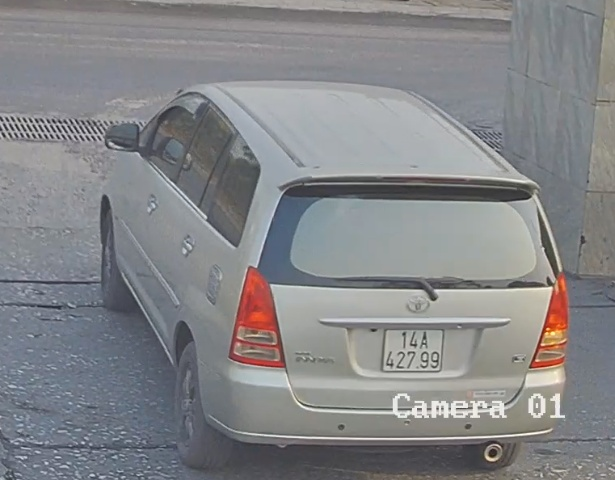vehicle plate: (381, 322, 448, 374)
